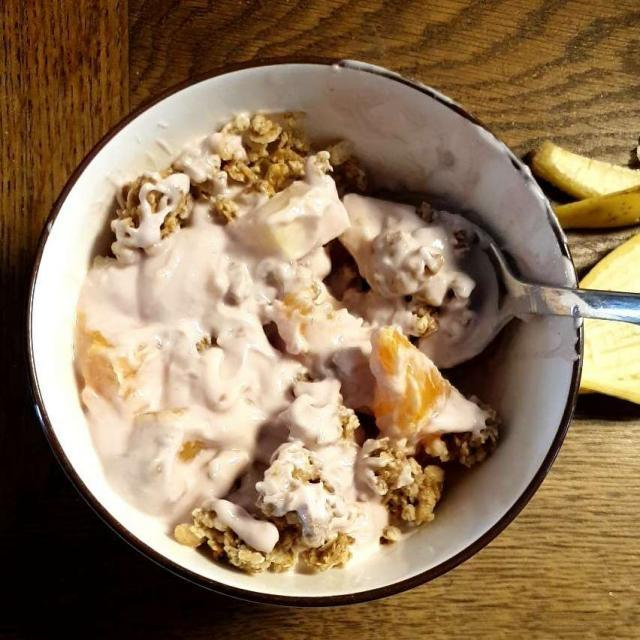birchermuesli: (82, 124, 513, 565)
